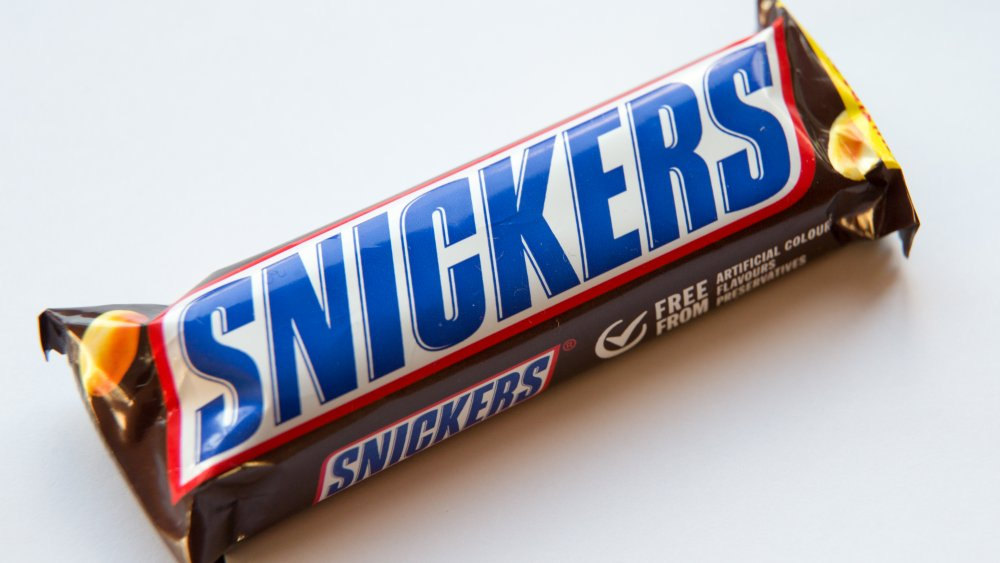snickers: (1, 6, 948, 552)
